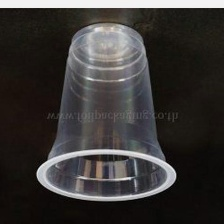glass: (31, 19, 184, 208)
